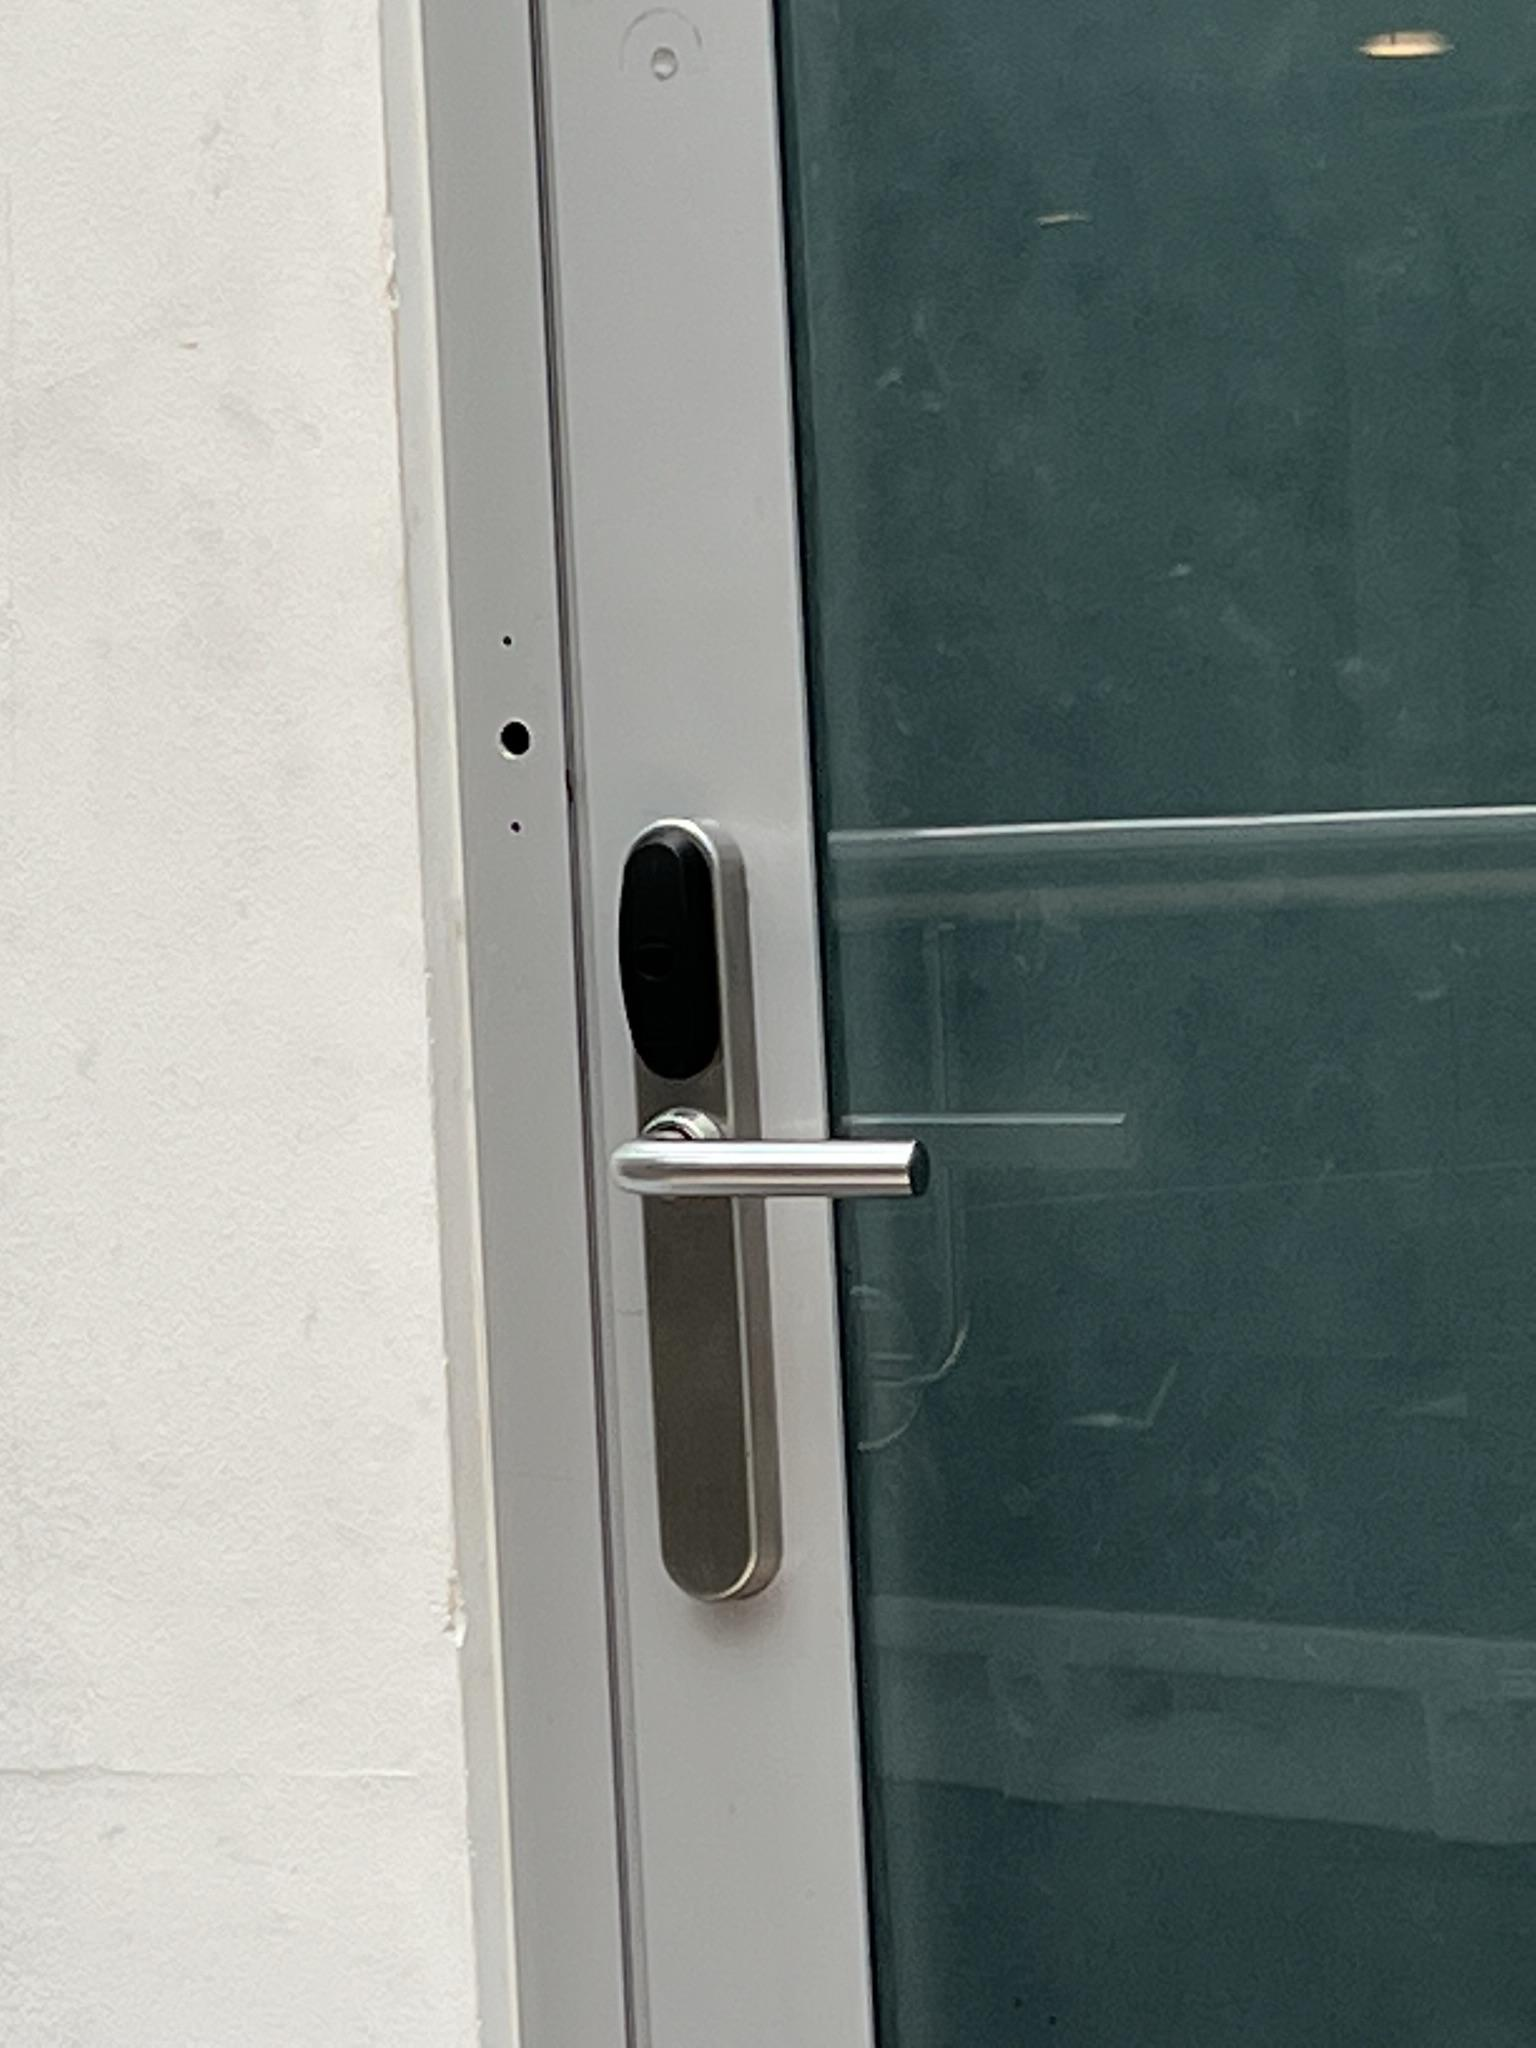door: (402, 21, 1505, 2043)
handle: (603, 780, 925, 1606)
